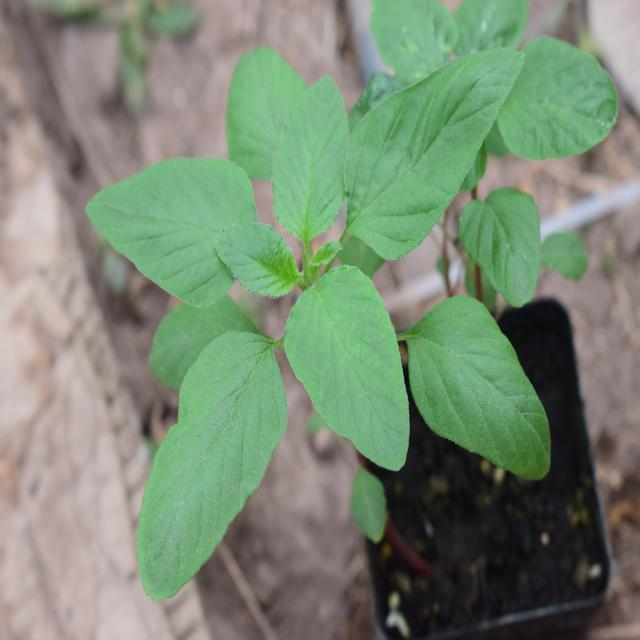pigweed: (92, 52, 538, 546)
